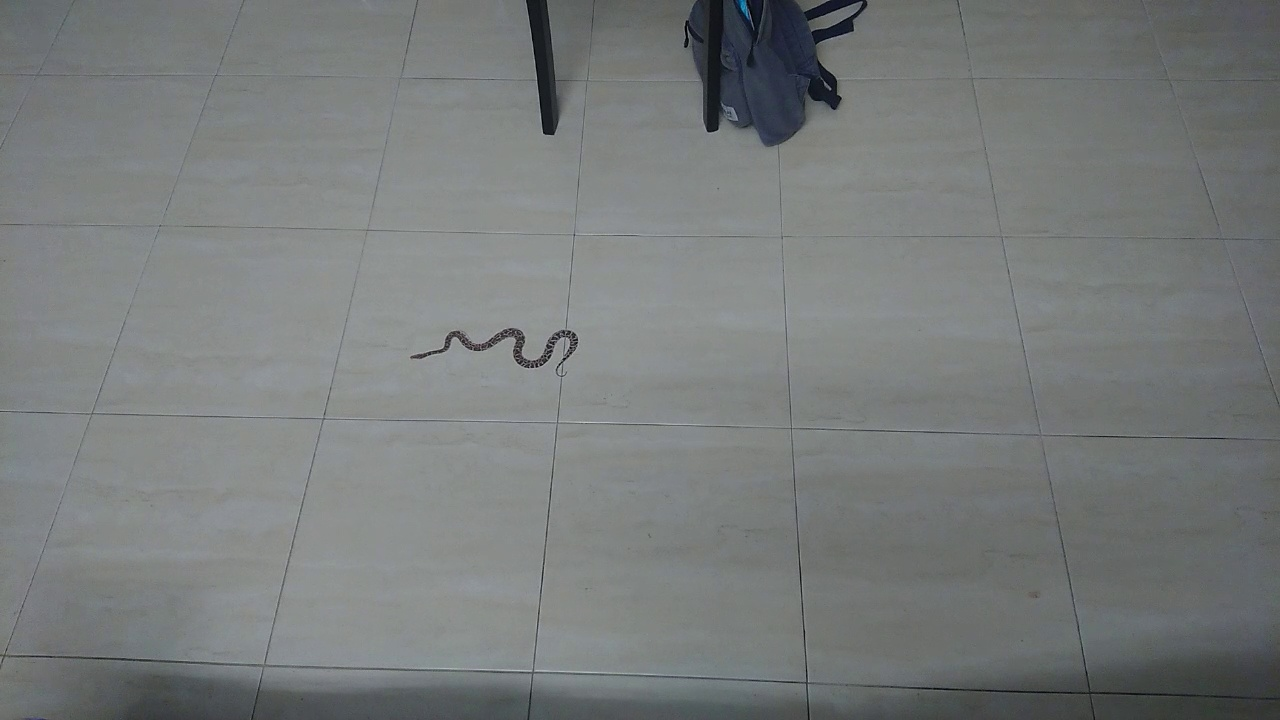snake: (389, 309, 595, 387)
